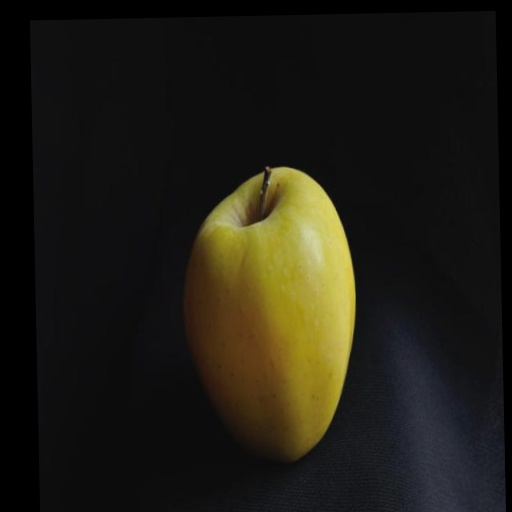fruit: (183, 168, 354, 461)
